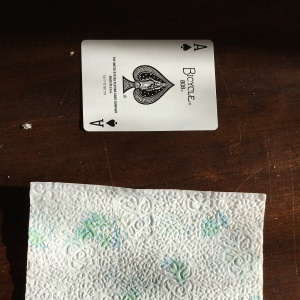card: (79, 36, 220, 133)
